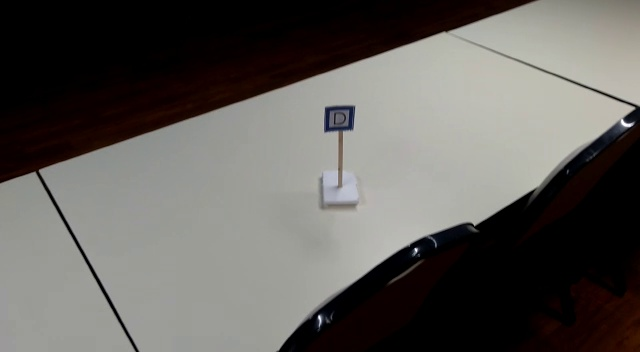durak: (324, 106, 354, 131)
